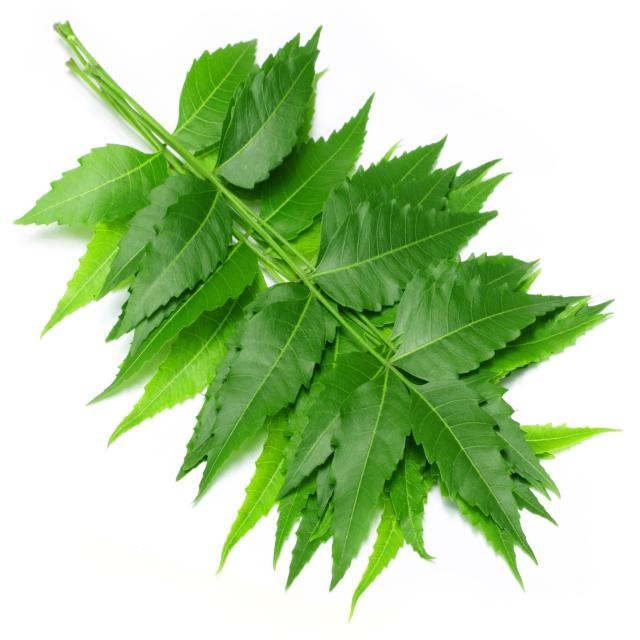Medicinal-Neem: (12, 10, 624, 622)
